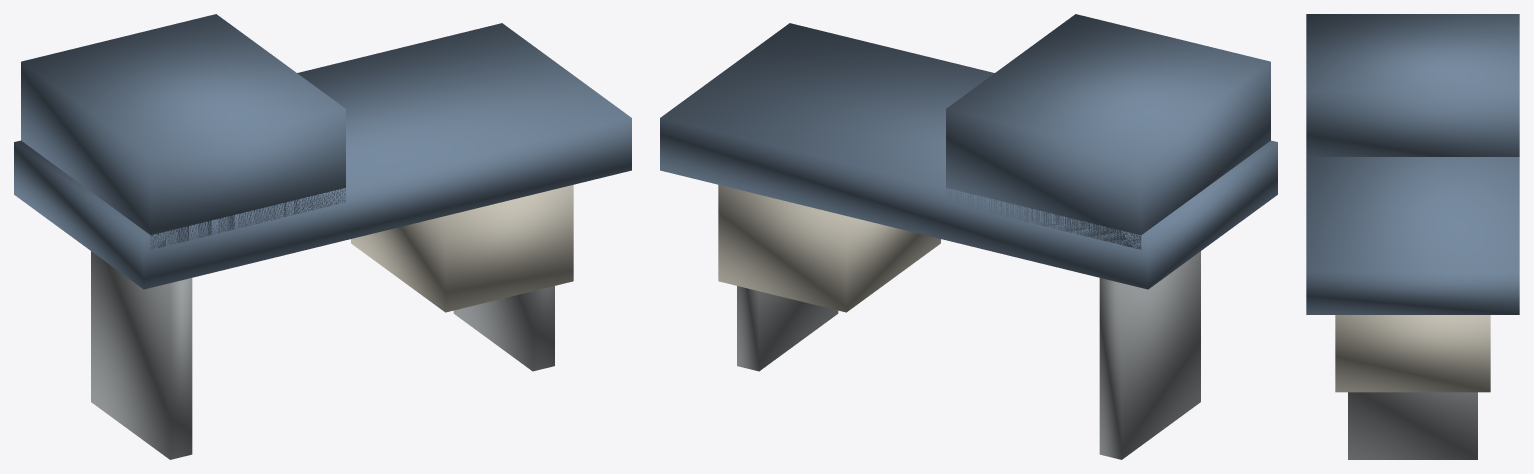
The model's file is exam_table__deep.glb.
3 views of the same model, side by side, from view 1: azimuth 30°, elevation 25°; view 2: azimuth 150°, elevation 25°; view 3: azimuth 270°, elevation 25° (orthographic). The views are drawn at different scales.
Visible parts, largest first — view 1: world; view 2: world; view 3: world.
Boxes of the visible parts, x1,y1,x2,y2 form: world: (14,14,631,459); world: (660,14,1277,459); world: (1306,14,1519,459).
Bounding box in the file's own units: 1.75 × 1.14 × 0.8052.
